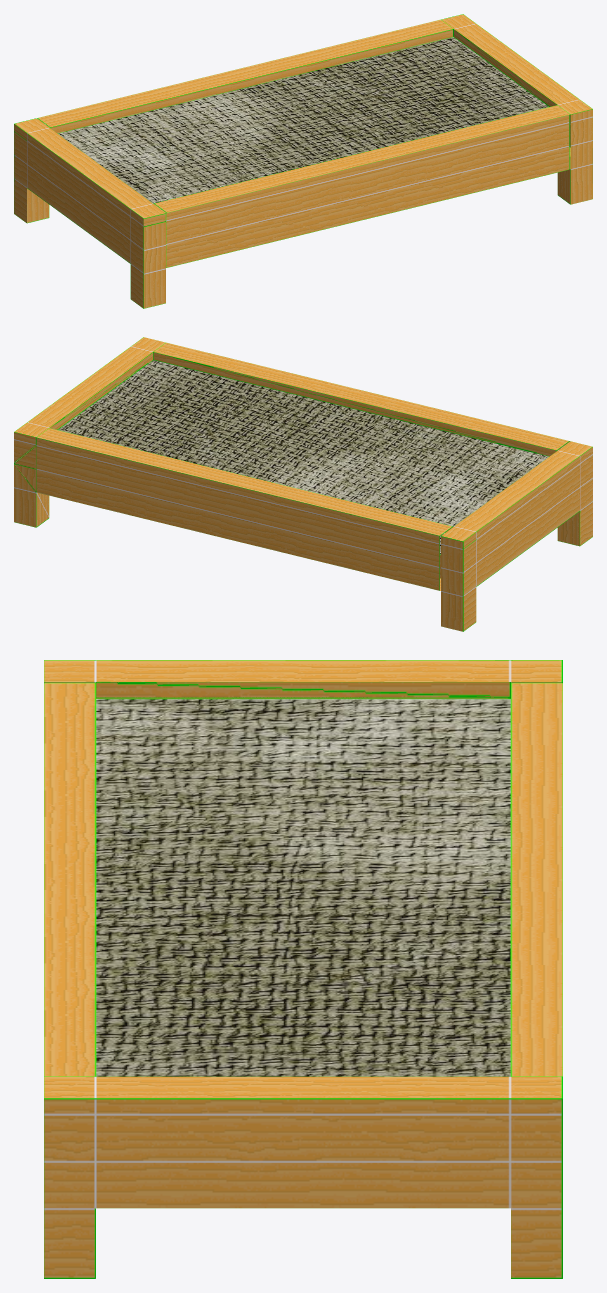
File: cottextured.fbx
3 views of the same model, one above another, from view 1: azimuth 30°, elevation 25°; view 2: azimuth 150°, elevation 25°; view 3: azimuth 270°, elevation 25° (orthographic). The views are drawn at different scales.
Visible parts, largest first — view 1: Prop_Cot__4_; view 2: Prop_Cot__4_; view 3: Prop_Cot__4_.
Part boxes in pixels (x1,y1,x2,y2): Prop_Cot__4_: (14, 14, 592, 308); Prop_Cot__4_: (14, 337, 592, 631); Prop_Cot__4_: (44, 660, 562, 1278).
Size of the model in its own units: 2 by 0.3838 by 1.
Materials: 1 (1 with a texture image).
